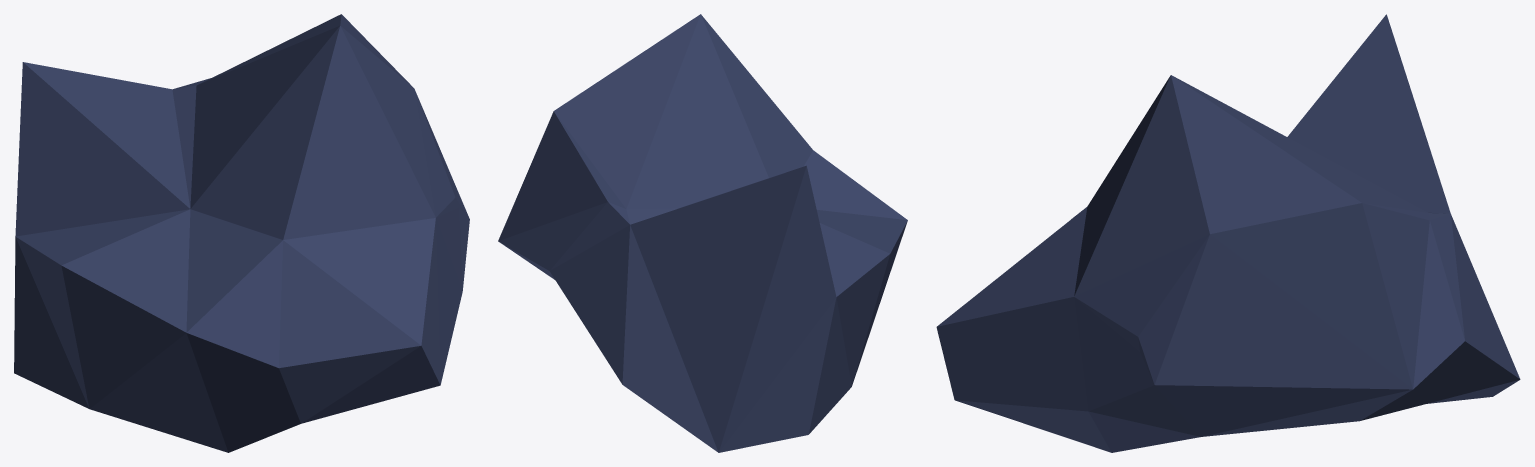
Rendered from Spikestone 3.fbx.
3 renders of one model, left to right at view 1: azimuth 30°, elevation 25°; view 2: azimuth 150°, elevation 25°; view 3: azimuth 270°, elevation 25°, orthographic. The views are drawn at different scales.
Visible parts, largest first — view 1: Spikestone Size 3; view 2: Spikestone Size 3; view 3: Spikestone Size 3.
Boxes of the visible parts, bbox=[...] form: Spikestone Size 3: bbox=[14, 14, 469, 452]; Spikestone Size 3: bbox=[498, 14, 907, 452]; Spikestone Size 3: bbox=[936, 14, 1520, 452].
Size of the model in its own units: 283 by 262 by 337.
